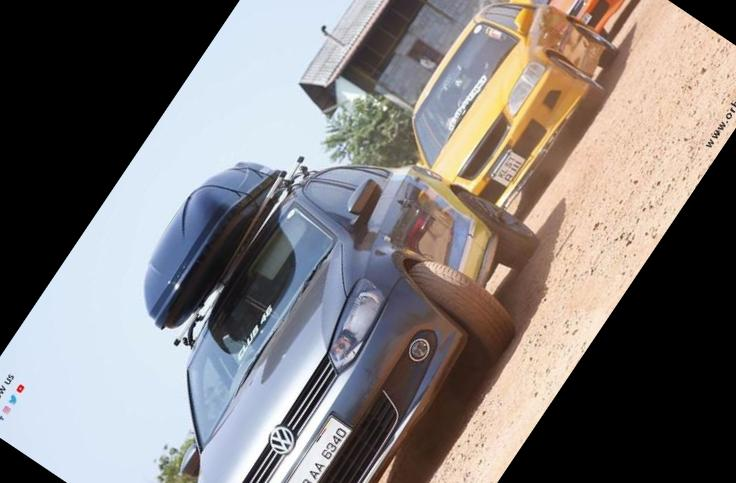plate: (259, 401, 365, 483)
